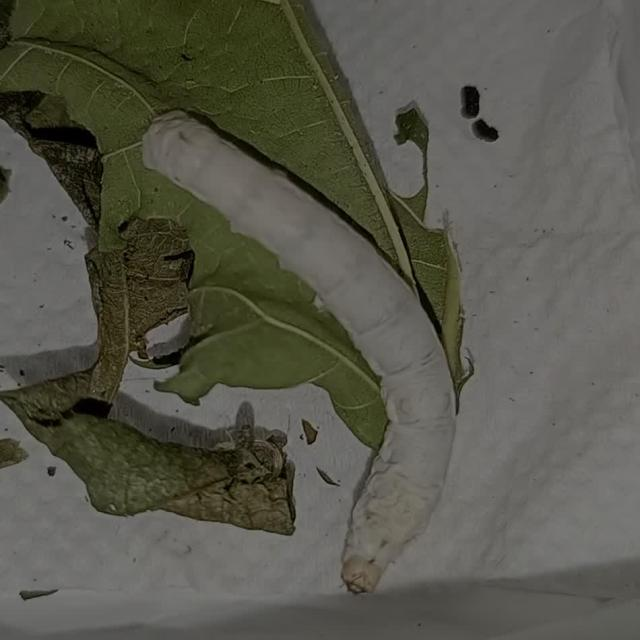Healthy: (124, 91, 474, 612)
